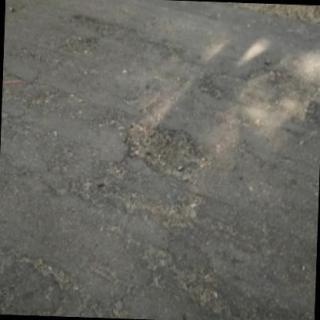pothole: (125, 124, 208, 185)
